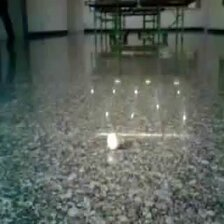w: (105, 135, 120, 149)
